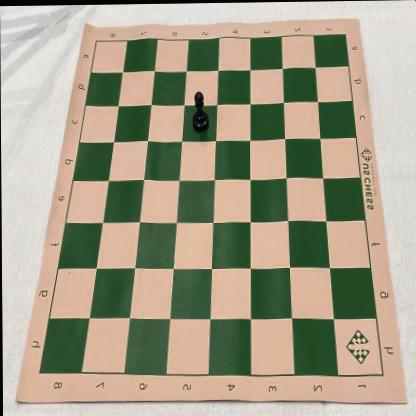black-pawn: (191, 90, 209, 131)
